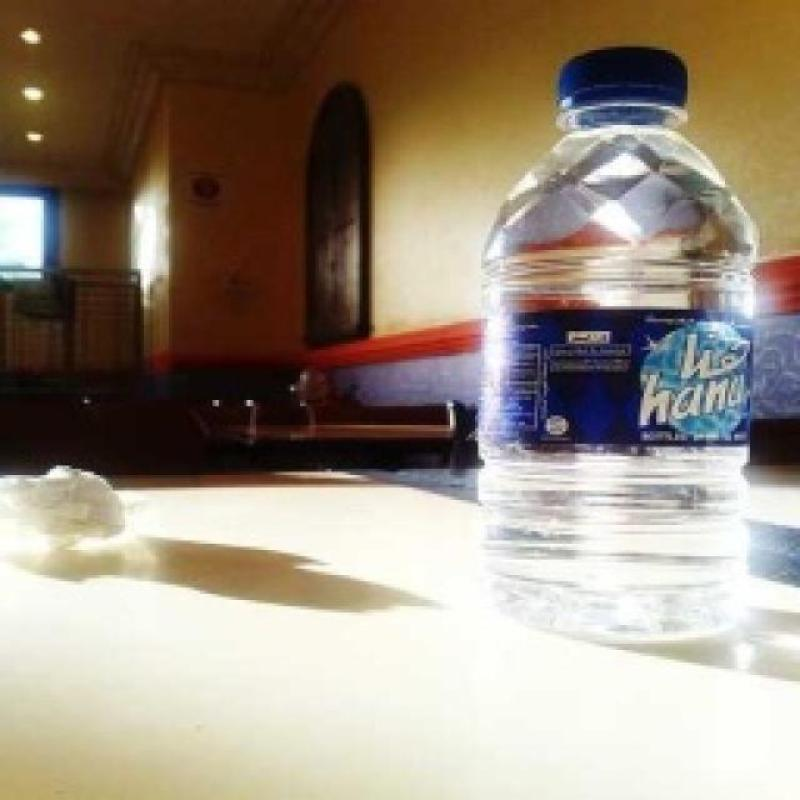botella: (475, 46, 760, 644)
